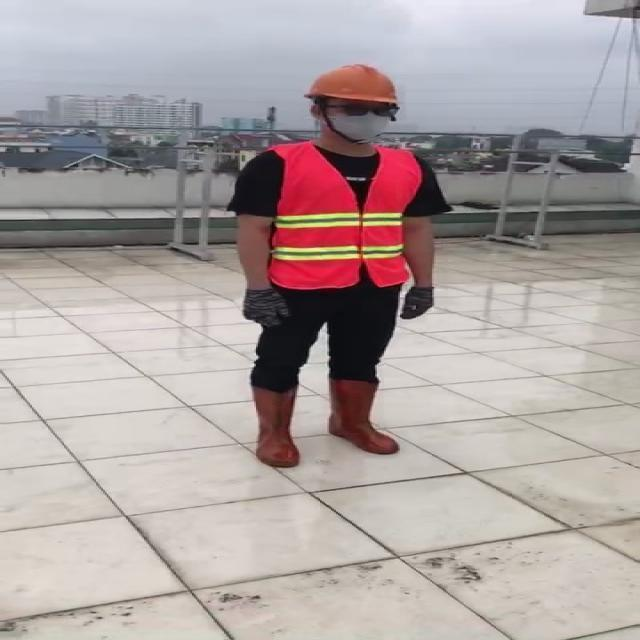gloves: (243, 285, 289, 326), (398, 278, 435, 320)
goggles: (326, 101, 401, 117)
helmet: (302, 60, 409, 104)
safety_vest: (268, 141, 423, 288)
